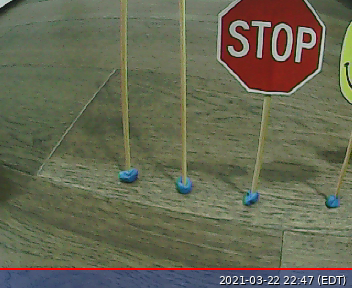Stop: (215, 1, 327, 97)
